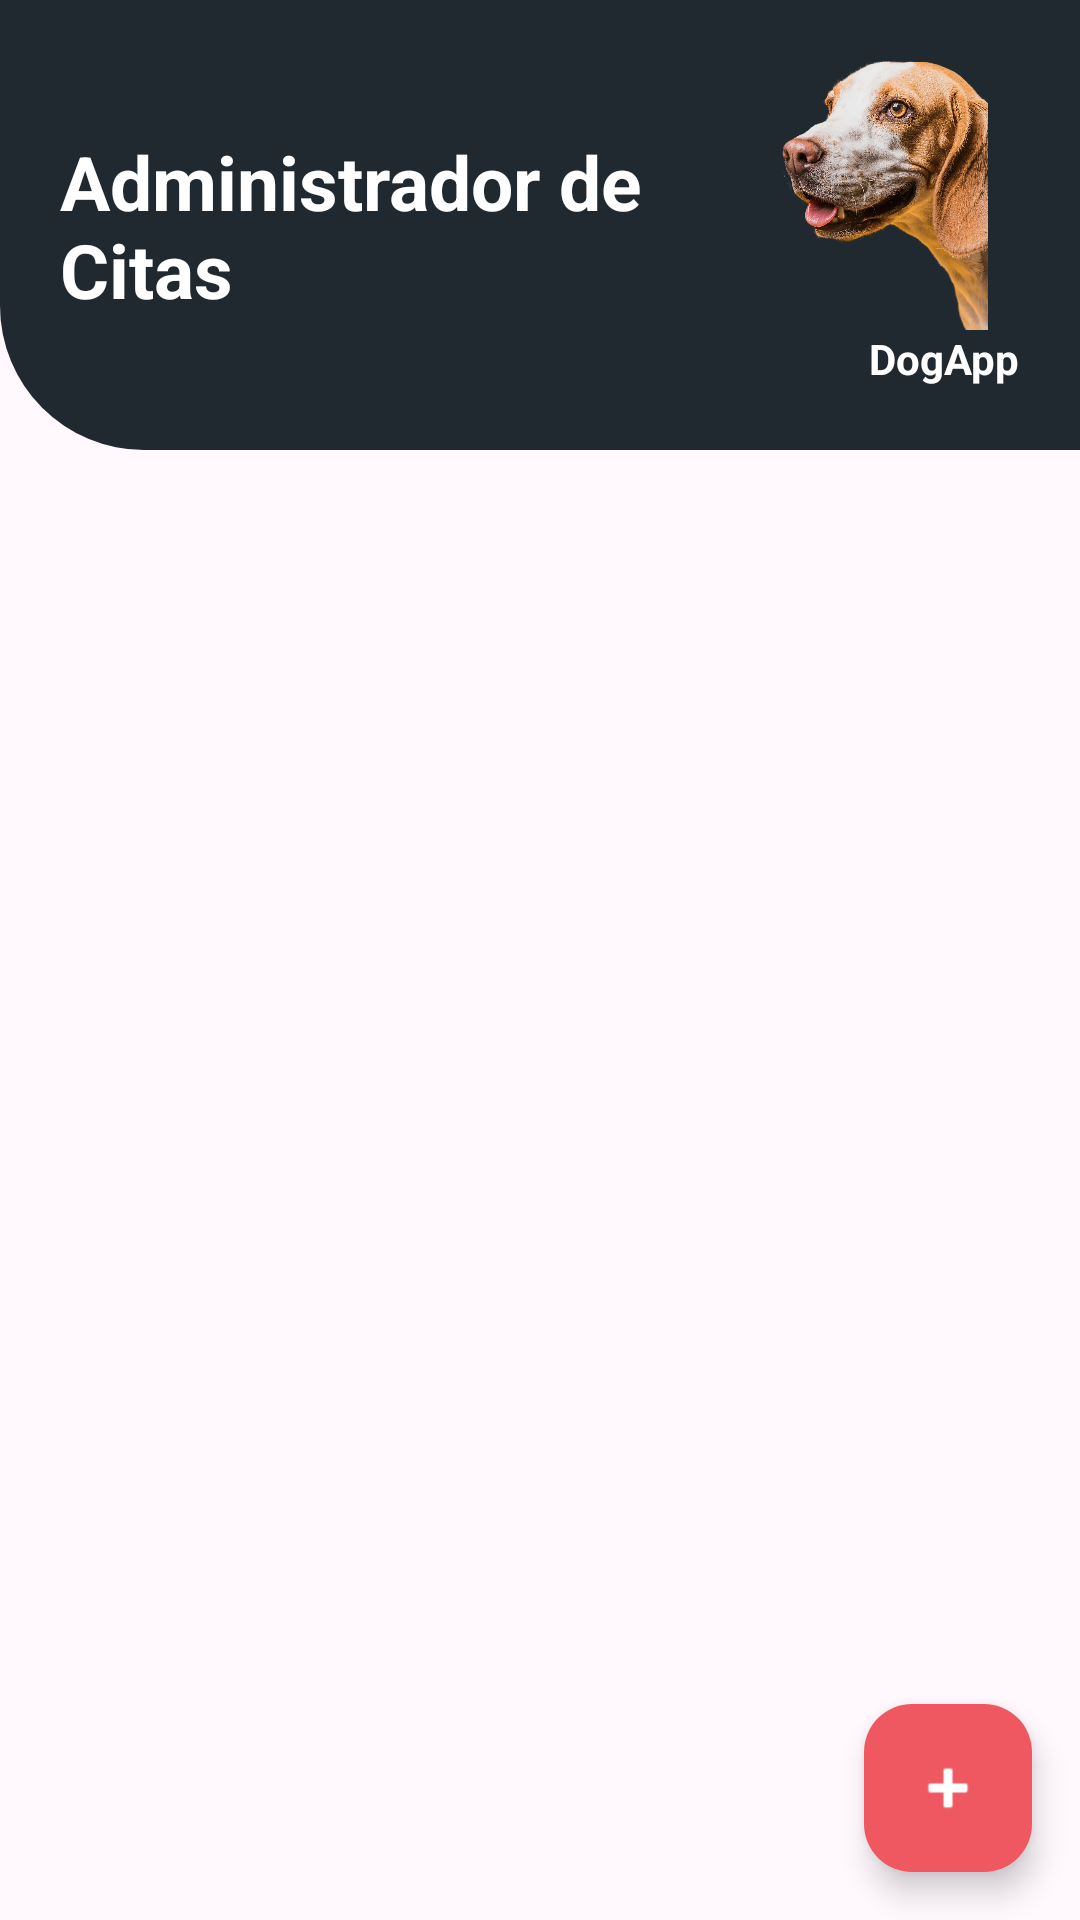

Icons on this 1080w x 1920h Android screen, each with its box as {"left": x1, "top": y1, "right": x2, "bottom": y2}:
Cabeza de un perro: {"left": 782, "top": 61, "right": 988, "bottom": 330}
Nueva Cita: {"left": 864, "top": 1704, "right": 1032, "bottom": 1872}
